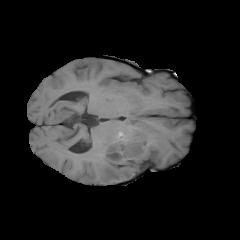glioma: (85, 111, 167, 182)
